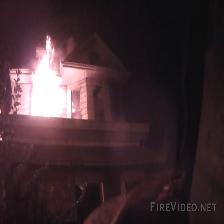fire: (8, 37, 69, 118)
